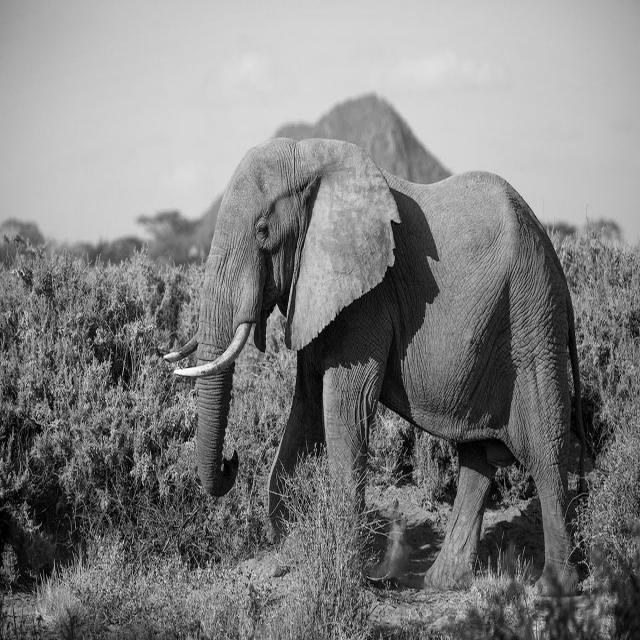Elephant: (163, 135, 587, 597)
